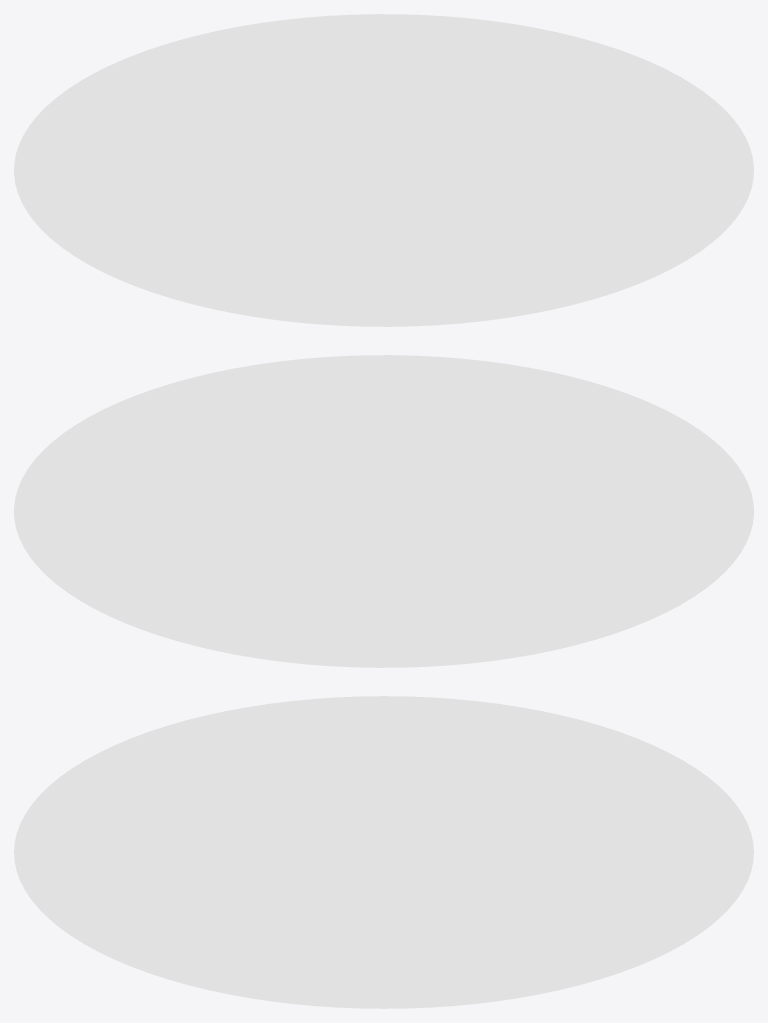
The model's file is GroundPlane.obj.
3 views of the same model, one above another, from view 1: azimuth 30°, elevation 25°; view 2: azimuth 150°, elevation 25°; view 3: azimuth 270°, elevation 25° (orthographic).
Visible parts, largest first — view 1: Disc; view 2: Disc; view 3: Disc.
Boxes of the visible parts, x1,y1,x2,y2 form: Disc: (14, 14, 753, 326); Disc: (14, 355, 753, 667); Disc: (14, 696, 753, 1008).
Bounding box in the file's own units: 8.73 × 0 × 8.73.
1 material, 1 textured.
